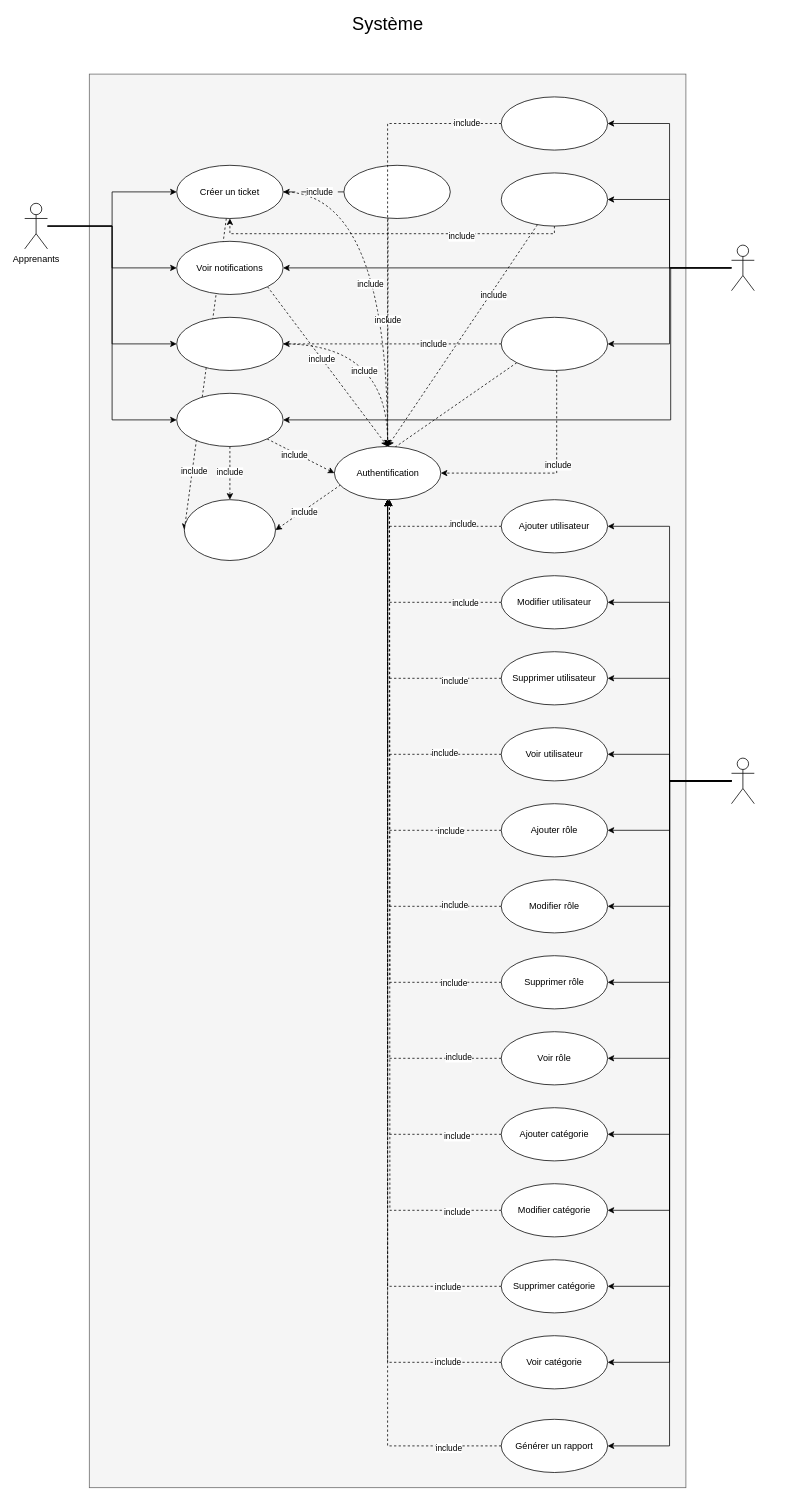
Some shapes in this 785 by 1501 pixel diagram are drawn without their labels. The shapes that lost their labels are listed below. From the top down, each one's centre as x and y in pixels, then its label:
At [554,123]: "Voir historique".
At [396,191]: "Sélection de la catégorie".
At [554,199]: "Voir ticket".
At [742,267]: "Formateurs".
At [229,343]: "Voir réponse".
At [554,343]: "Faire une réponse".
At [229,419]: "Faire un chat".
At [230,529]: "Envoi notification".
At [742,780]: "Administrateur".
